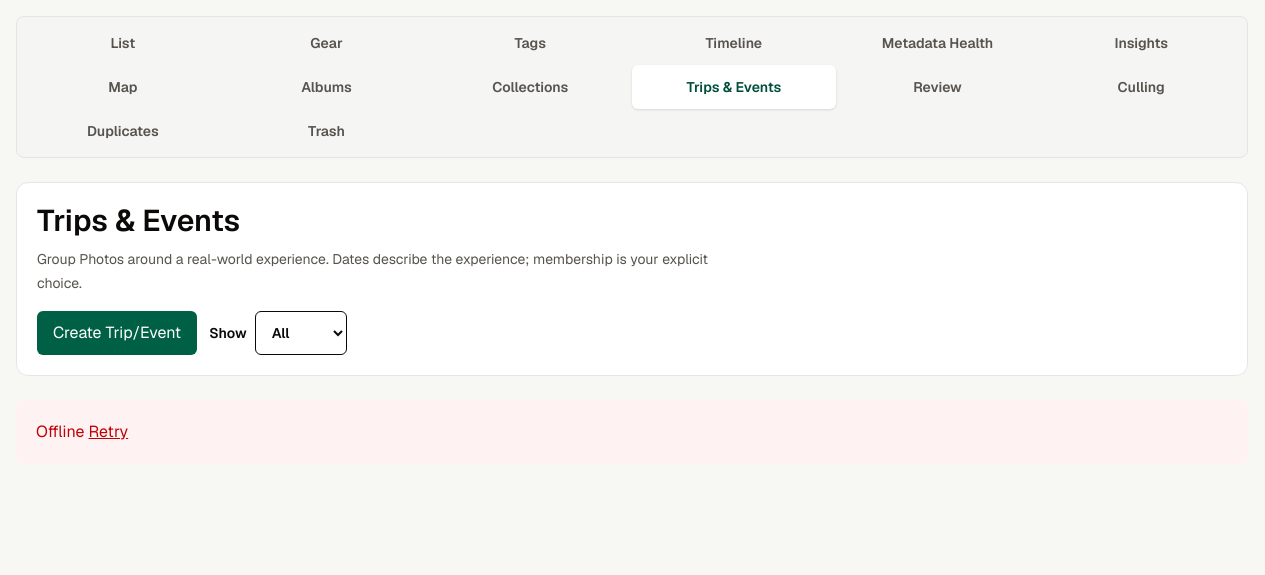
Scenario: index empty and API failure states retry
Expected: the message shows "Offline", [36, 421, 84, 442]
Click the button "Retry". click: [108, 432]
box: [88, 420, 128, 444]
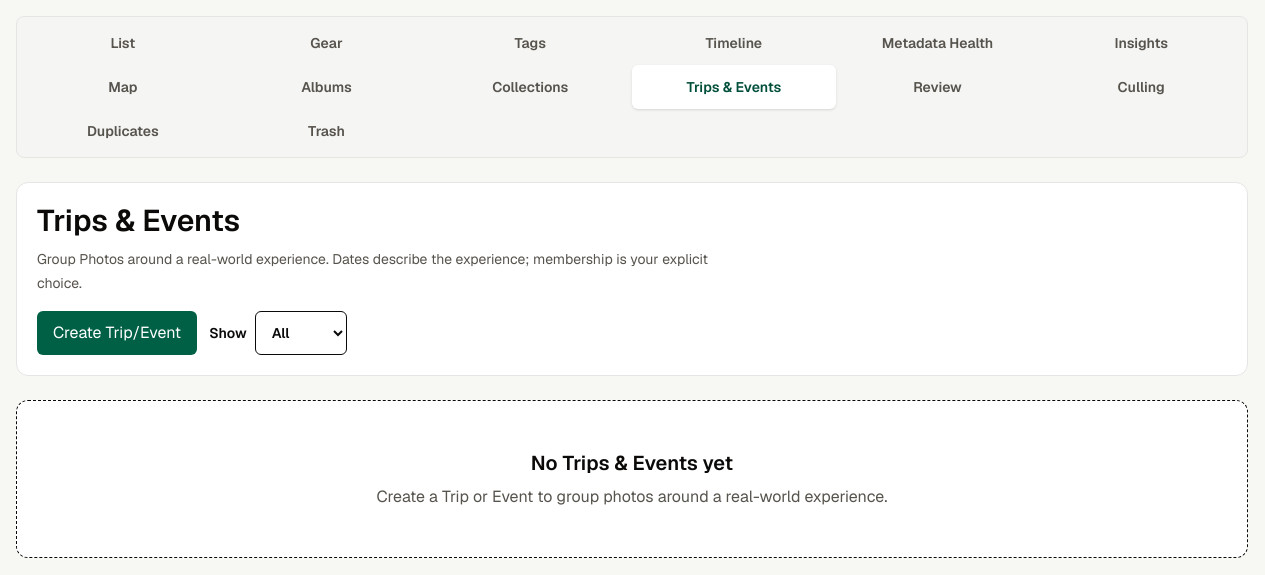
Expected: the heading "No Trips & Events yet" is shown, [531, 450, 733, 476]
